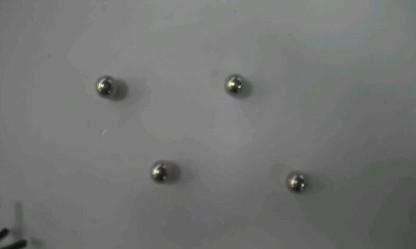ironball: (149, 159, 175, 183), (94, 74, 117, 98), (284, 170, 307, 192), (223, 72, 245, 95)
